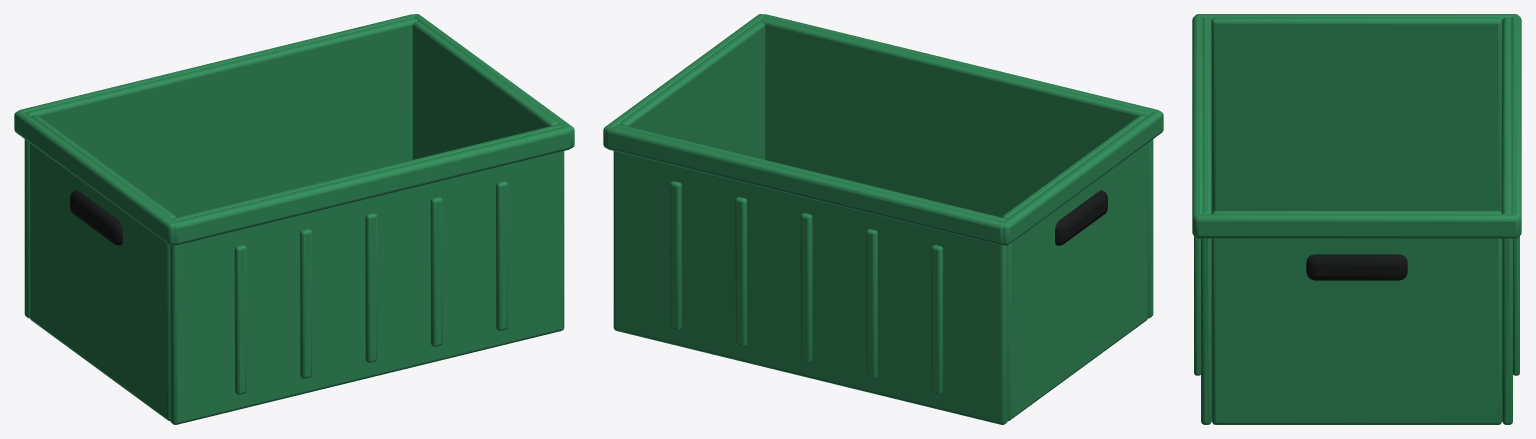
Rendered from crate_glass_blank.fbx.
3 views of the same model, side by side, from view 1: azimuth 30°, elevation 25°; view 2: azimuth 150°, elevation 25°; view 3: azimuth 270°, elevation 25° (orthographic). The views are drawn at different scales.
Visible parts, largest first — view 1: crate_glass_blank; view 2: crate_glass_blank; view 3: crate_glass_blank.
Boxes of the visible parts, x1=… form: crate_glass_blank: x1=14, y1=14, x2=574, y2=424; crate_glass_blank: x1=603, y1=14, x2=1163, y2=424; crate_glass_blank: x1=1192, y1=14, x2=1521, y2=424.
Size of the model in its own units: 0.622 by 0.3 by 0.422.
